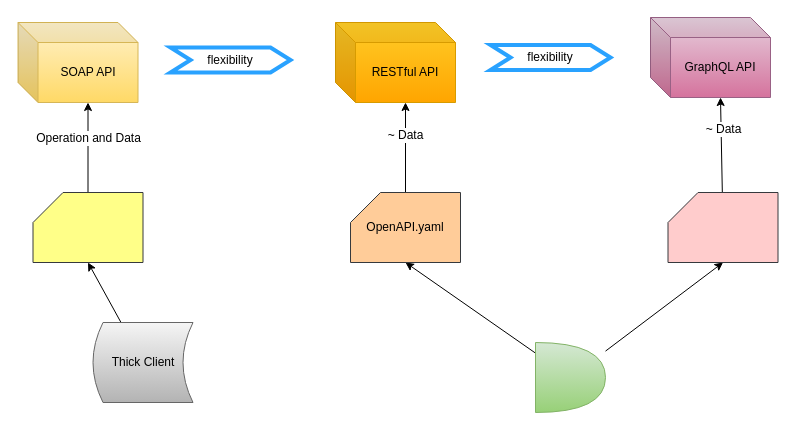
This 795x430 diagram has some shape labels left out. Here are the shapes that lost their labels. From the top down, the centre of each, then its label:
At point 87,227: "WSDL file".
At point 722,227: "schema.graphql".
At point 570,377: "UI - Clients".
